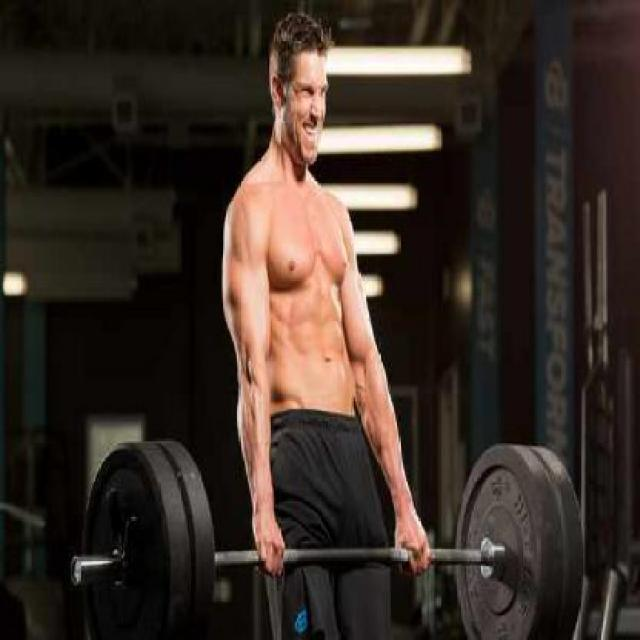Barbell: (69, 552, 85, 588)
